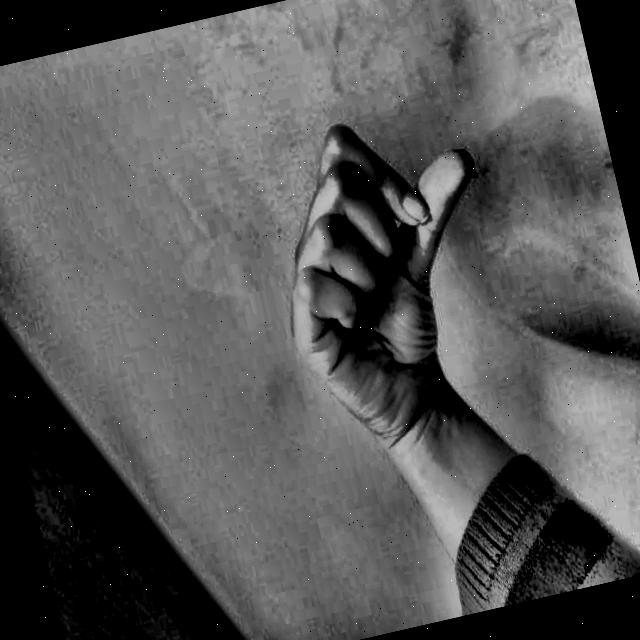Ay: (203, 71, 549, 480)
